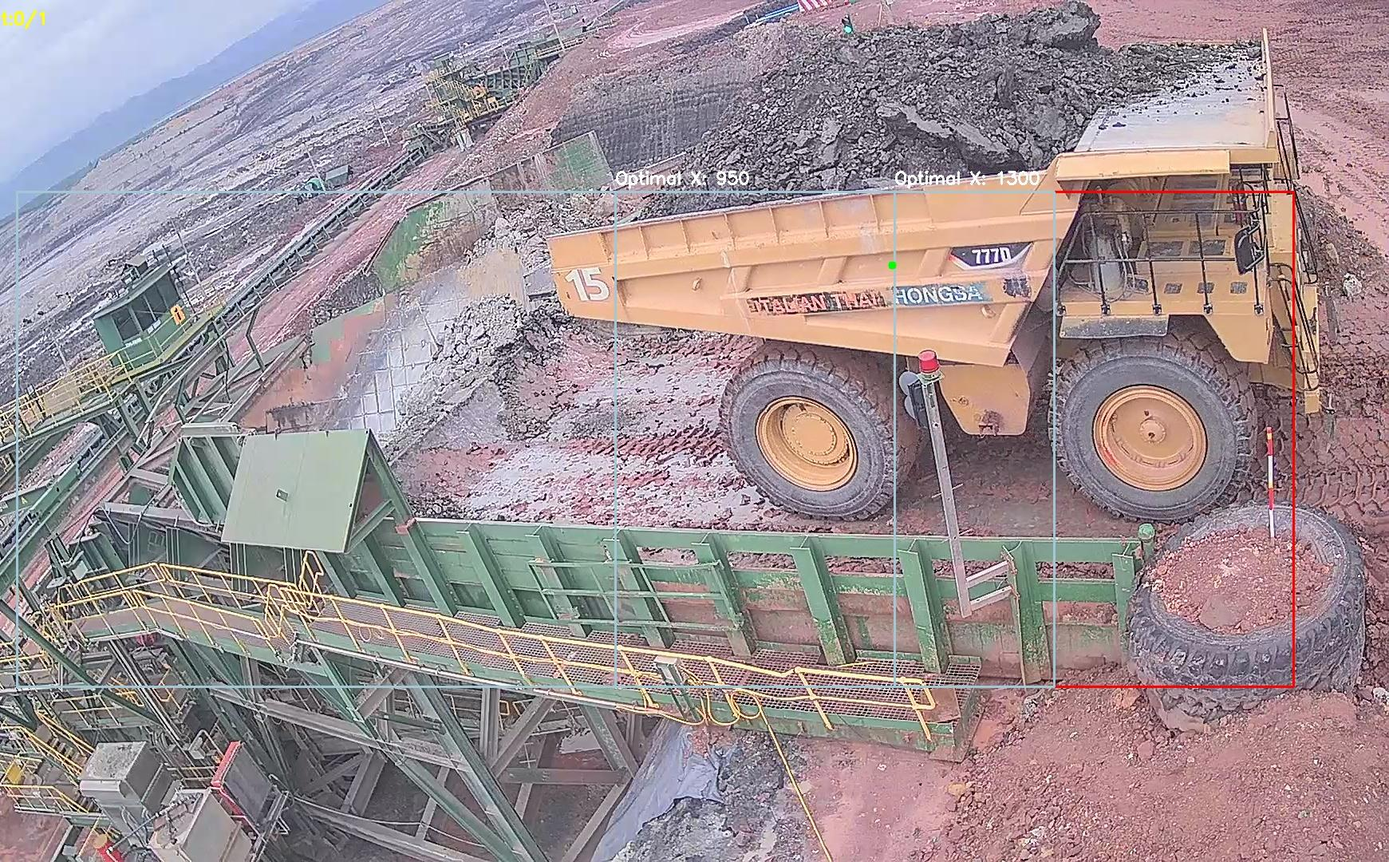company: (743, 274, 1002, 322)
full_load: (659, 11, 1124, 196)
mining_truck: (538, 7, 1339, 545)
tail_number: (554, 258, 619, 310)
truck_size: (952, 236, 1021, 268)
